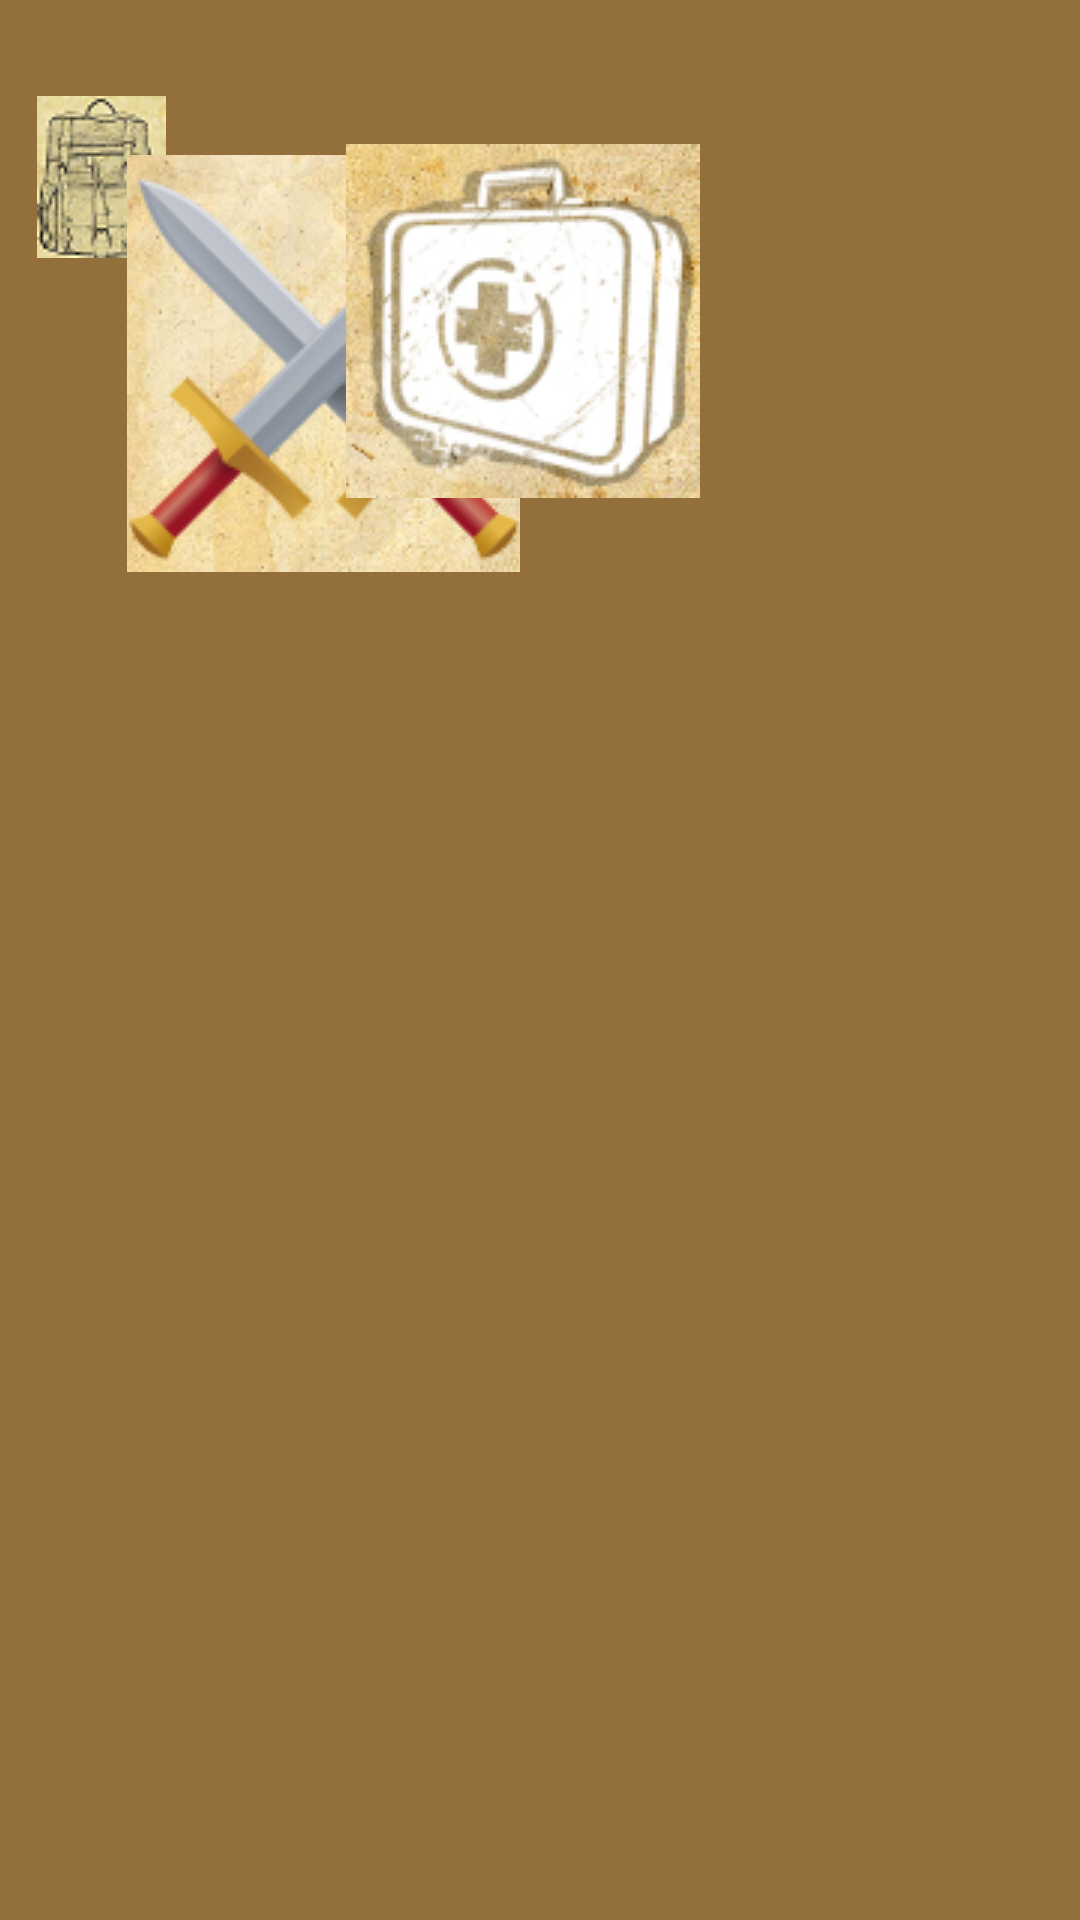

Locate icon controls on the screen. Image size 1080 × 1920, boxes as (x1, y1, x2, y2).
aid: (346, 144, 700, 498)
